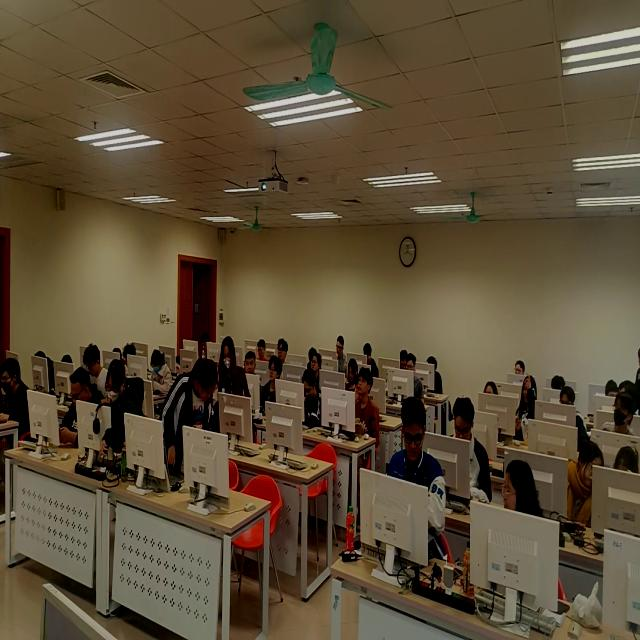raise_hand: (516, 373, 539, 445)
raise_head: (352, 368, 380, 454), (600, 391, 640, 437), (262, 356, 284, 414), (618, 378, 639, 398), (278, 340, 290, 365), (245, 351, 257, 375), (482, 381, 501, 396), (311, 354, 323, 376), (515, 359, 525, 376)
stand: (161, 357, 219, 475), (100, 362, 146, 471), (219, 337, 251, 398), (635, 347, 640, 416)
using_computer: (435, 397, 493, 507), (60, 368, 100, 447), (1, 358, 32, 438), (559, 386, 591, 450), (83, 345, 110, 394), (303, 370, 322, 428), (150, 351, 174, 395), (34, 351, 58, 395), (407, 354, 425, 403), (428, 356, 444, 395), (364, 343, 380, 379), (335, 336, 348, 374), (113, 347, 129, 377), (346, 358, 359, 394), (604, 380, 620, 397), (124, 344, 137, 362), (258, 340, 269, 361), (552, 376, 567, 391), (202, 334, 211, 359), (308, 349, 318, 370), (400, 350, 409, 371), (62, 355, 74, 363)
